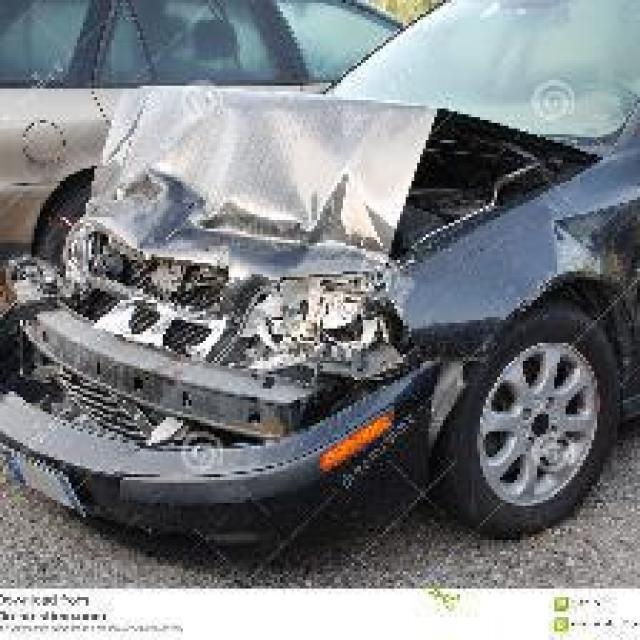damaged: (0, 86, 637, 512)
